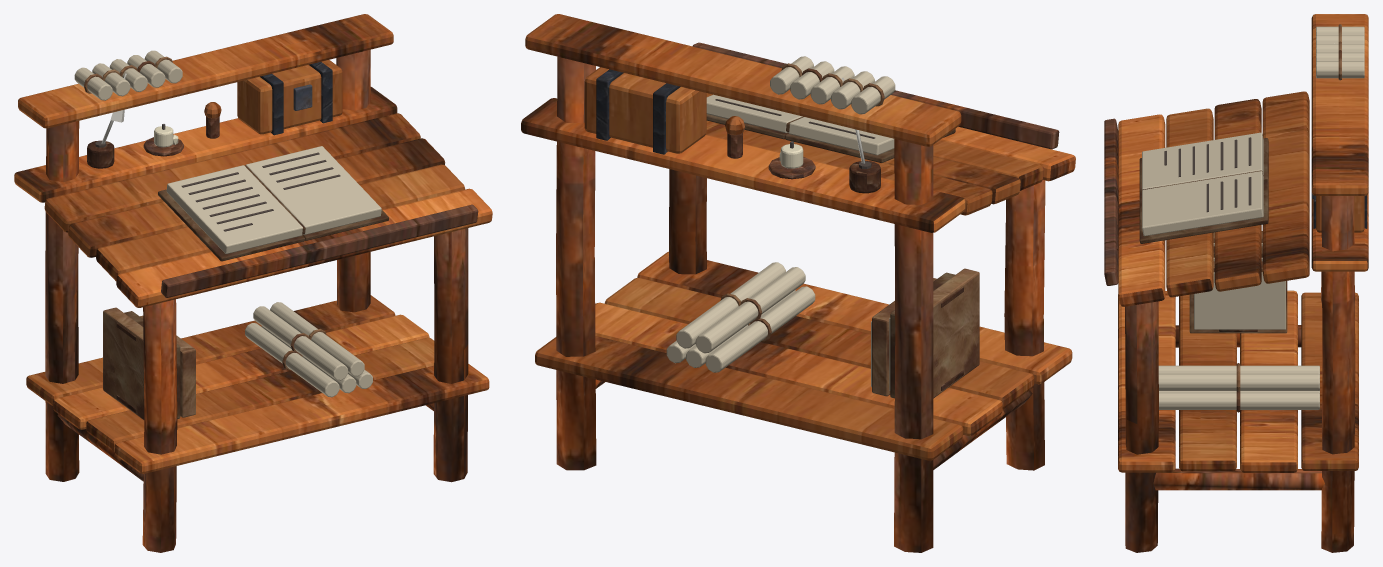
The model's file is mg_gatekeeper_desk.glb.
3 renders of one model, left to right at view 1: azimuth 30°, elevation 25°; view 2: azimuth 150°, elevation 25°; view 3: azimuth 270°, elevation 25°, orthographic. The views are drawn at different scales.
Parts seen in each view (by area): view 1: model; view 2: model; view 3: model.
Boxes of the visible parts, x1,y1,x2,y2 form: model: [14, 14, 492, 552]; model: [521, 14, 1075, 552]; model: [1104, 14, 1368, 552].
Size of the model in its own units: 1.02 by 1.07 by 0.6497.
Materials: 21 (16 with a texture image).
